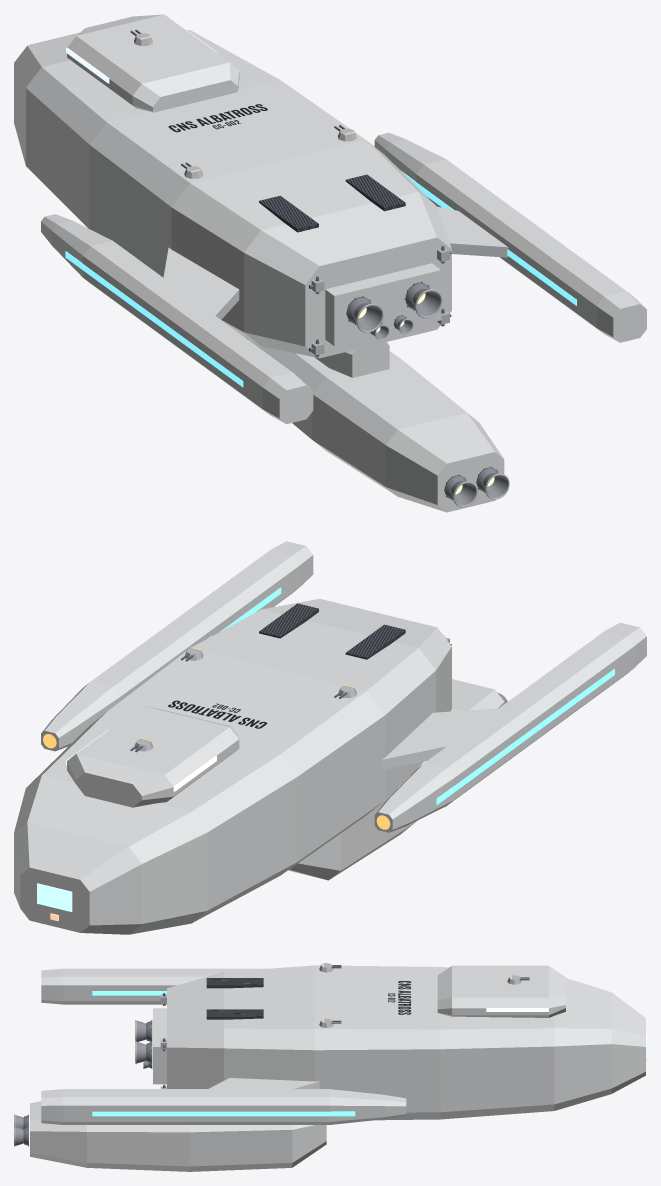
File: albatross.glb
3 views of the same model, one above another, from view 1: azimuth 30°, elevation 25°; view 2: azimuth 150°, elevation 25°; view 3: azimuth 270°, elevation 25° (orthographic). The views are drawn at different scales.
Visible parts, largest first — view 1: hull, secondary, nacelle_port_paint_nacelle, nacelle_starboard_paint_nacelle, command_paint_plain, hull_drive_paint_plain, hull_radiator, pylon_port_paint_plain, neck_paint_plain, hull_drive_bell, nacelle_port_glow_grille, hull_drive_metal_8a9098 (+4 smaller); view 2: hull, nacelle_port_paint_nacelle, nacelle_starboard_paint_nacelle, command_paint_plain, secondary, pylon_port_paint_plain, hull_radiator, nacelle_port_glow_grille, hull_deflector_glow_dish, nacelle_port_paint_plain; view 3: hull, secondary, nacelle_starboard_paint_nacelle, command_paint_plain, nacelle_port_paint_nacelle, nacelle_starboard_glow_grille, hull_radiator, hull_drive_paint_plain, pylon_starboard_paint_plain, hull_drive_bell, nacelle_port_glow_grille, hull_weapons_metal_8a9098.
Part boxes in pixels (x1,y1,x2,y2): hull: [14, 30, 451, 358]; secondary: [245, 337, 504, 512]; nacelle_port_paint_nacelle: [41, 214, 313, 424]; nacelle_starboard_paint_nacelle: [374, 132, 646, 342]; command_paint_plain: [67, 14, 239, 112]; hull_drive_paint_plain: [325, 263, 441, 346]; hull_radiator: [259, 174, 405, 232]; pylon_port_paint_plain: [165, 247, 239, 319]; neck_paint_plain: [315, 342, 389, 377]; hull_drive_bell: [354, 289, 440, 339]; nacelle_port_glow_grille: [65, 251, 243, 387]; hull_drive_metal_8a9098: [311, 247, 449, 355]; hull: [14, 598, 451, 934]; nacelle_port_paint_nacelle: [374, 622, 646, 832]; nacelle_starboard_paint_nacelle: [41, 541, 313, 751]; command_paint_plain: [67, 705, 239, 807]; secondary: [288, 679, 504, 880]; pylon_port_paint_plain: [382, 709, 483, 769]; hull_radiator: [259, 603, 405, 659]; nacelle_port_glow_grille: [436, 669, 614, 804]; hull_deflector_glow_dish: [37, 883, 72, 911]; nacelle_port_paint_plain: [428, 708, 498, 759]; hull: [167, 965, 645, 1120]; secondary: [30, 1101, 326, 1171]; nacelle_starboard_paint_nacelle: [41, 1089, 406, 1124]; command_paint_plain: [437, 965, 565, 1017]; nacelle_port_paint_nacelle: [41, 968, 266, 1004]; nacelle_starboard_glow_grille: [92, 1111, 355, 1116]; hull_radiator: [206, 978, 263, 1019]; hull_drive_paint_plain: [153, 1008, 166, 1084]; pylon_starboard_paint_plain: [209, 1078, 319, 1088]; hull_drive_bell: [136, 1021, 148, 1068]; nacelle_port_glow_grille: [92, 991, 166, 995]; hull_weapons_metal_8a9098: [319, 963, 521, 1027].
Size of the model in its own units: 55.78 by 35.23 by 111.
Materials: 18 (2 with a texture image).
